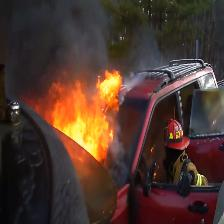fire: (31, 65, 132, 171)
smoke: (1, 3, 169, 93)
